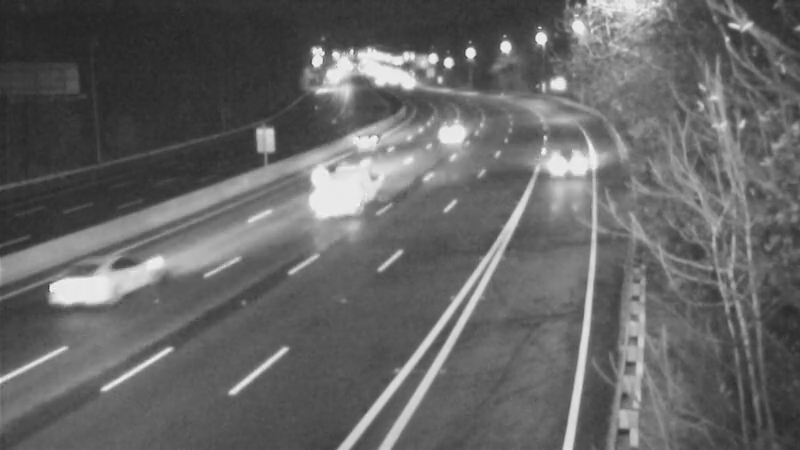vehicle: (536, 116, 616, 196), (300, 149, 380, 229), (47, 251, 127, 331), (424, 100, 474, 150), (338, 114, 388, 164)
